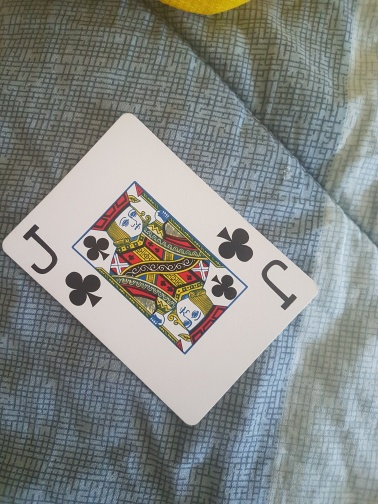jack: (2, 113, 318, 427)
